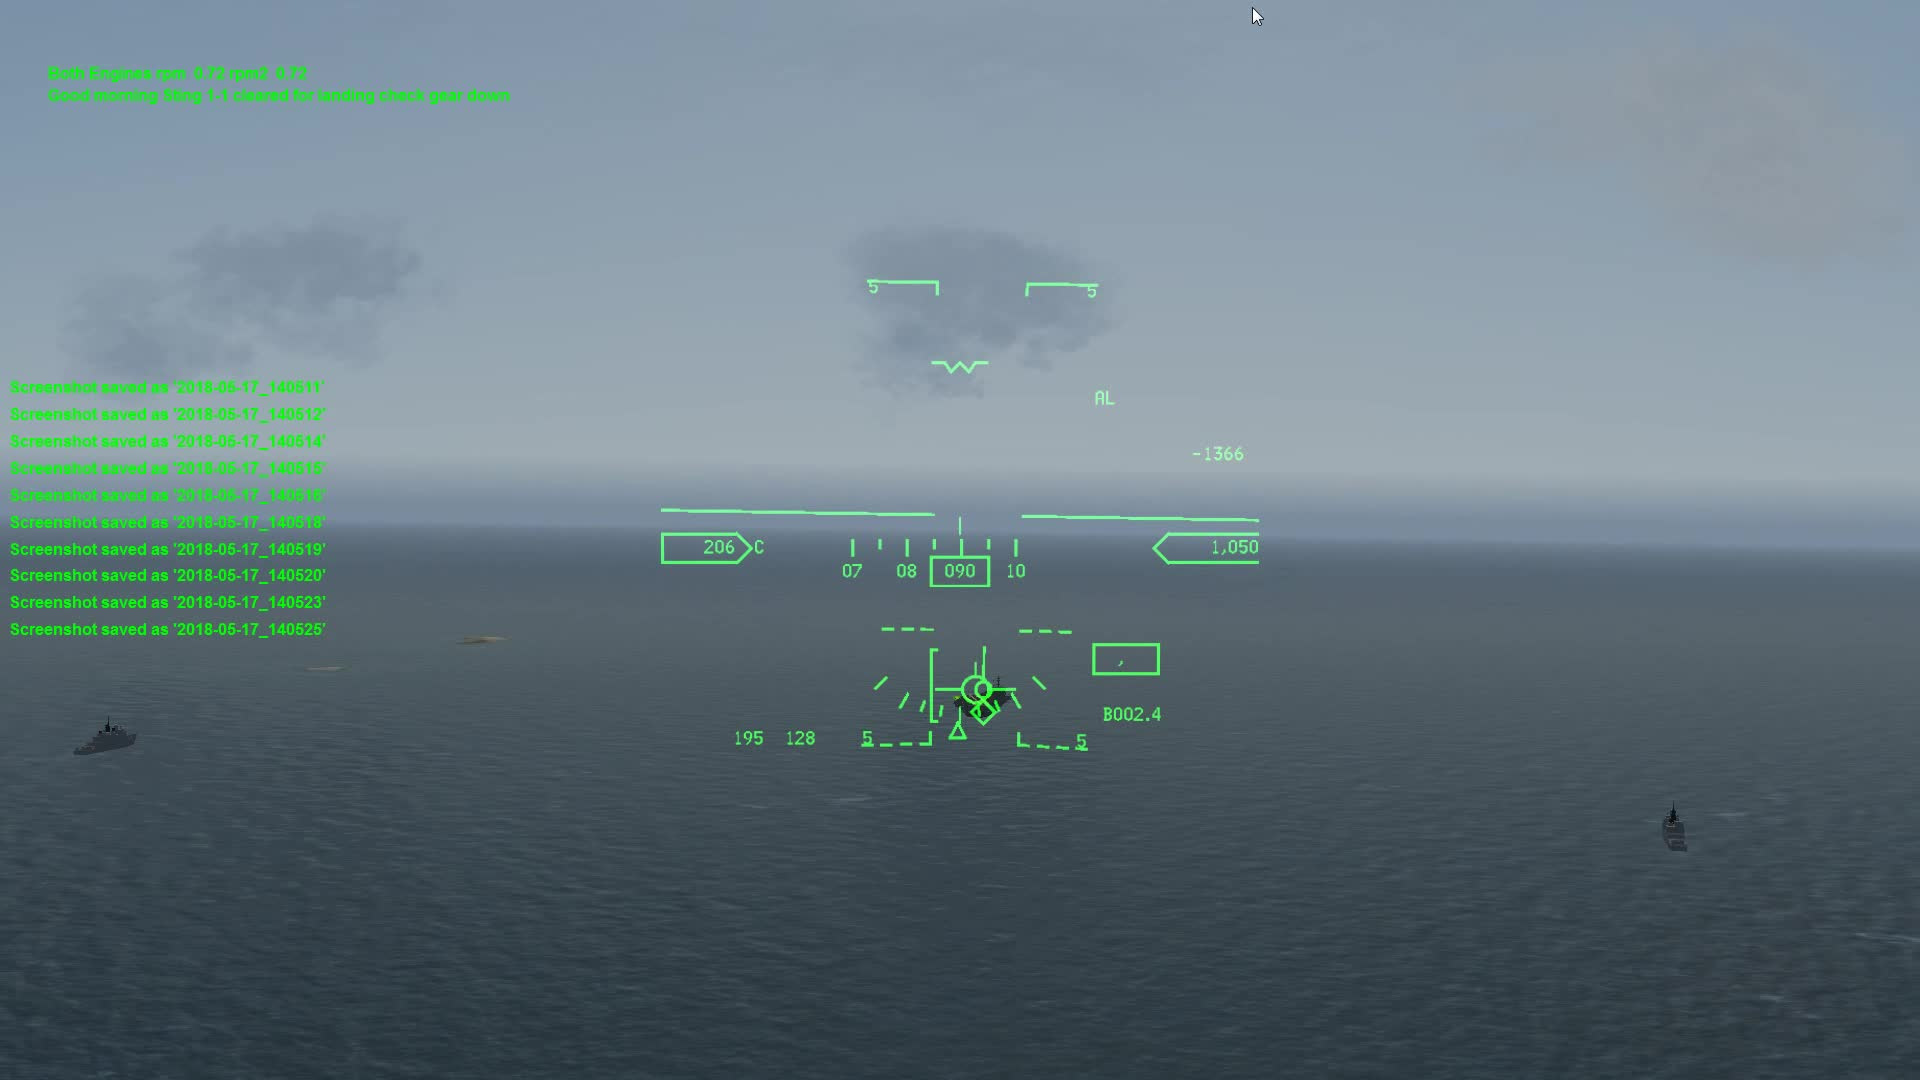speed vector: (930, 647, 1021, 709)
